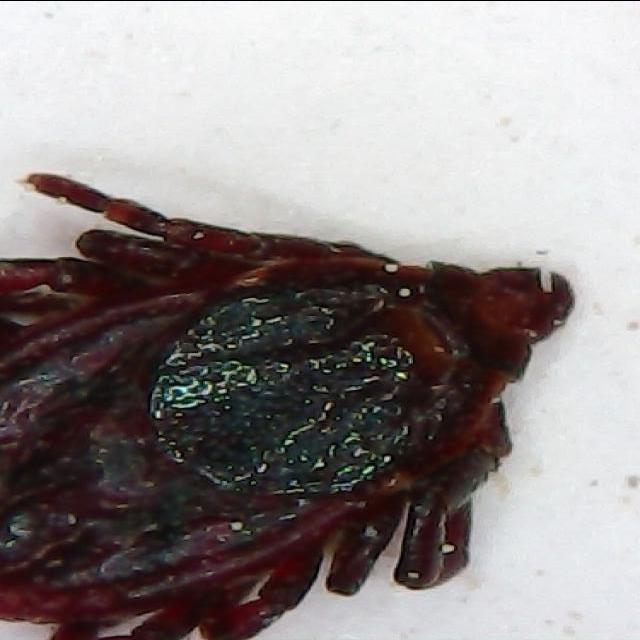Rhipicephalus Sanguineus-F: (0, 178, 573, 640)
